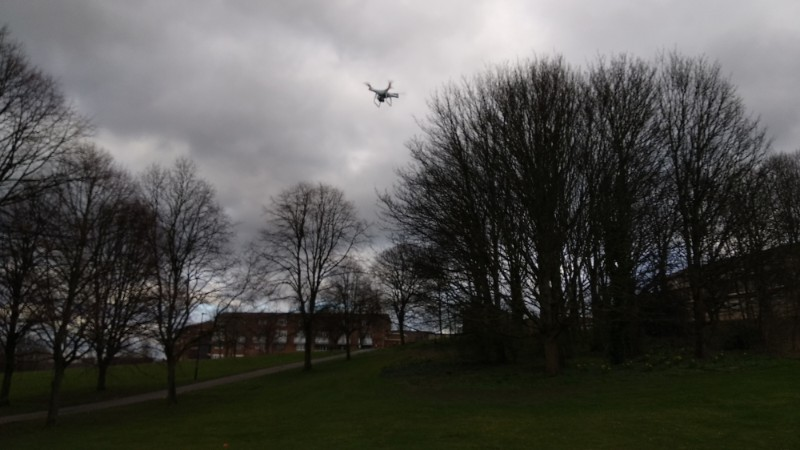drone: (363, 79, 405, 107)
